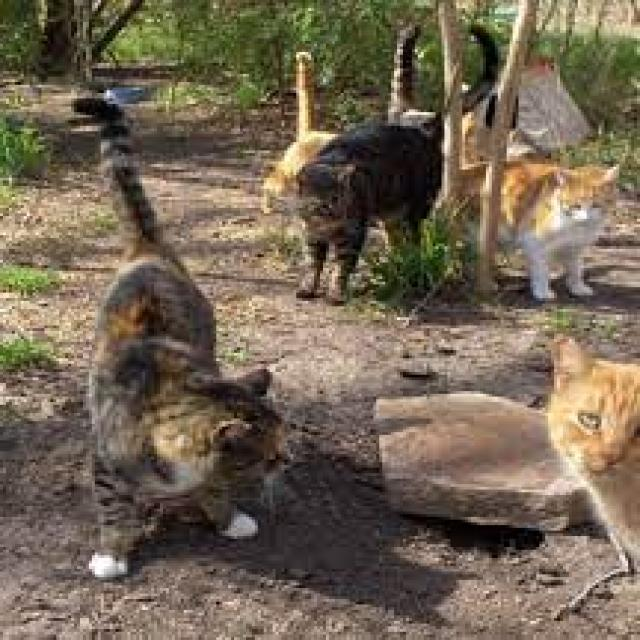cat: (74, 98, 283, 578), (298, 128, 437, 302), (548, 338, 639, 571), (493, 168, 615, 301), (263, 51, 337, 212), (420, 169, 481, 287), (387, 24, 437, 131), (463, 25, 498, 159)
